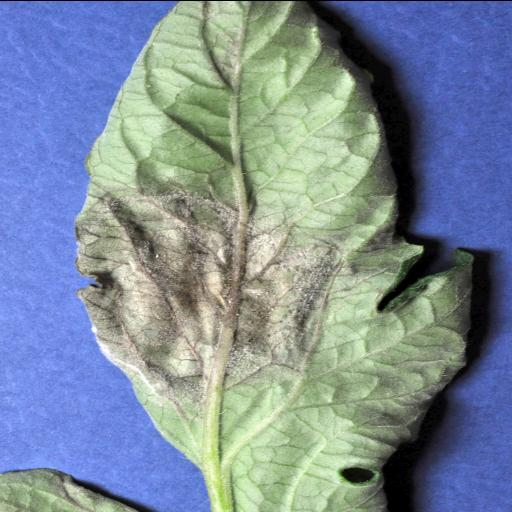disease_tomato: (84, 0, 504, 508)
